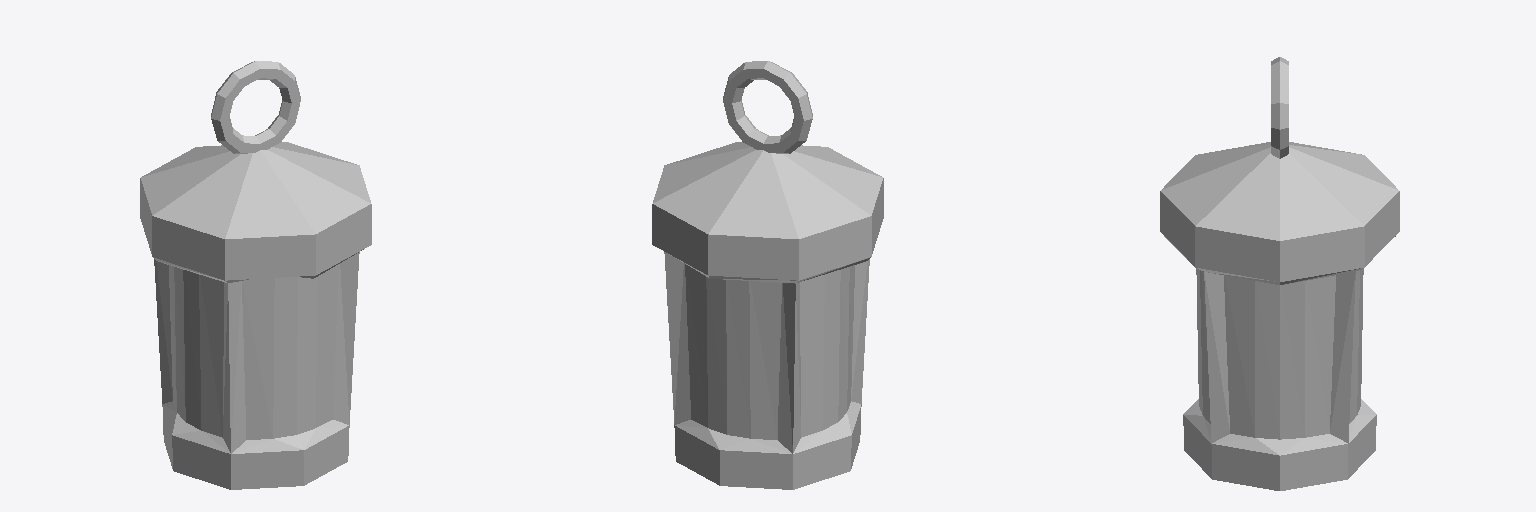
The model's file is wagonLantern.obj.
3 renders of one model, left to right at view 1: azimuth 30°, elevation 25°; view 2: azimuth 150°, elevation 25°; view 3: azimuth 270°, elevation 25°, orthographic.
Visible parts, largest first — view 1: wagonLantern_Cylinder.253; view 2: wagonLantern_Cylinder.253; view 3: wagonLantern_Cylinder.253.
Part boxes in pixels (x1,y1,x2,y2): wagonLantern_Cylinder.253: (140,61,371,489); wagonLantern_Cylinder.253: (652,61,883,489); wagonLantern_Cylinder.253: (1160,57,1399,490).
Bounding box in the file's own units: 0.3149 × 0.5669 × 0.3149.